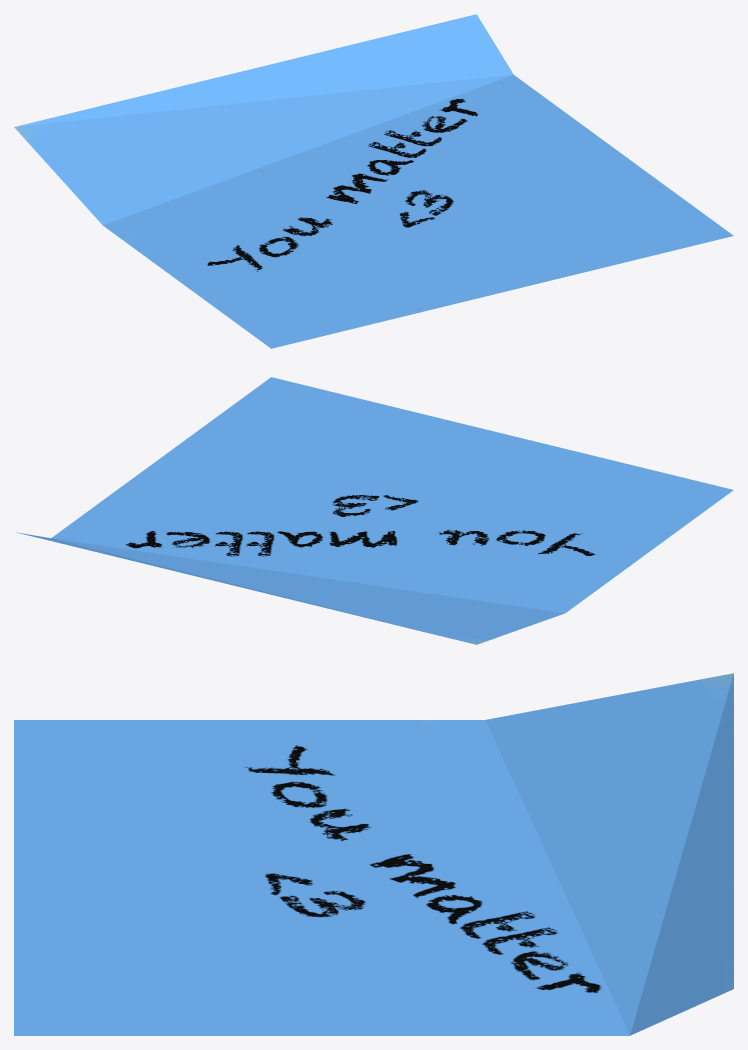
Rendered from PostIt02.glb.
3 views of the same model, one above another, from view 1: azimuth 30°, elevation 25°; view 2: azimuth 150°, elevation 25°; view 3: azimuth 270°, elevation 25° (orthographic). The views are drawn at different scales.
Visible parts, largest first — view 1: PostIt2; view 2: PostIt2; view 3: PostIt2.
Boxes of the visible parts, x1,y1,x2,y2 form: PostIt2: [14, 14, 733, 348]; PostIt2: [16, 377, 733, 644]; PostIt2: [14, 673, 733, 1035].
Size of the model in its own units: 0.0886 by 0.00612 by 0.0854.
Materials: 1 (1 with a texture image).
